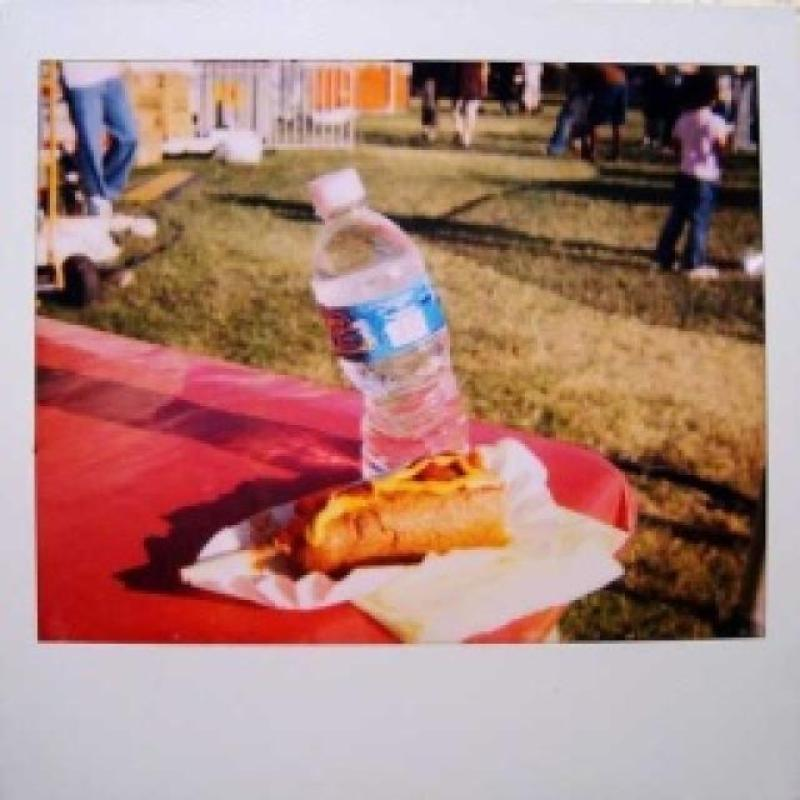botella: (306, 169, 469, 481)
